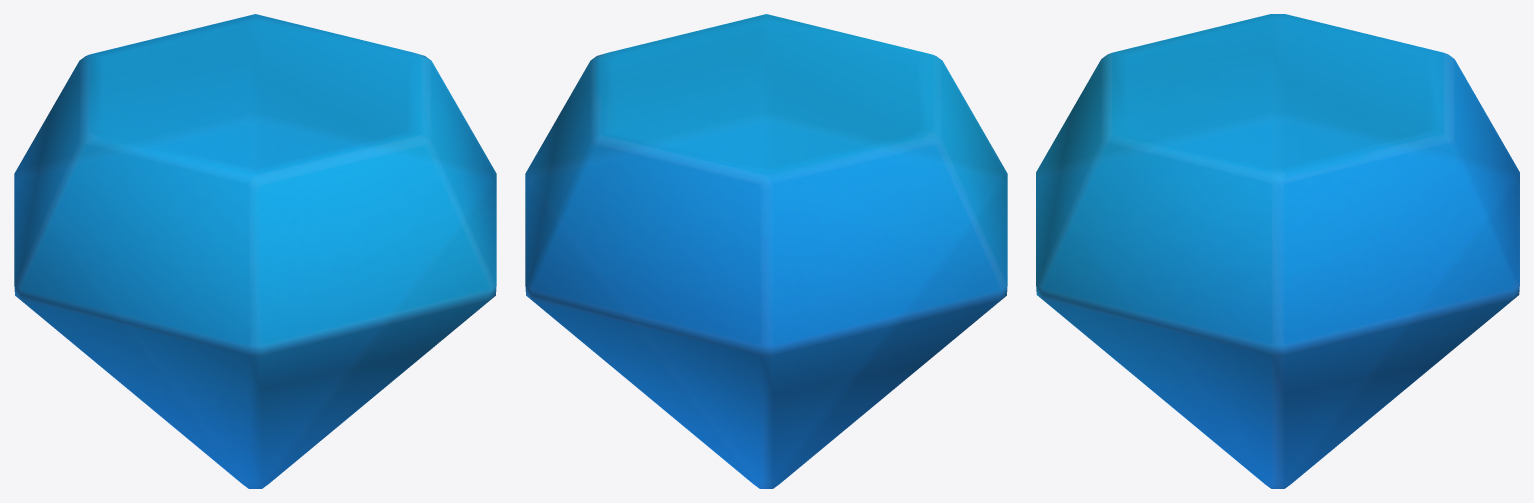
The model's file is diamond-blue.glb.
3 renders of one model, left to right at view 1: azimuth 30°, elevation 25°; view 2: azimuth 150°, elevation 25°; view 3: azimuth 270°, elevation 25°, orthographic.
Visible parts, largest first — view 1: Diamond_Blue_Diamond_Blue_0; view 2: Diamond_Blue_Diamond_Blue_0; view 3: Diamond_Blue_Diamond_Blue_0.
Boxes of the visible parts, x1=… form: Diamond_Blue_Diamond_Blue_0: x1=14, y1=14, x2=496, y2=488; Diamond_Blue_Diamond_Blue_0: x1=525, y1=14, x2=1007, y2=488; Diamond_Blue_Diamond_Blue_0: x1=1036, y1=14, x2=1519, y2=488.
Size of the model in its own units: 0.3641 by 0.2847 by 0.3194.
1 material, 1 textured.
